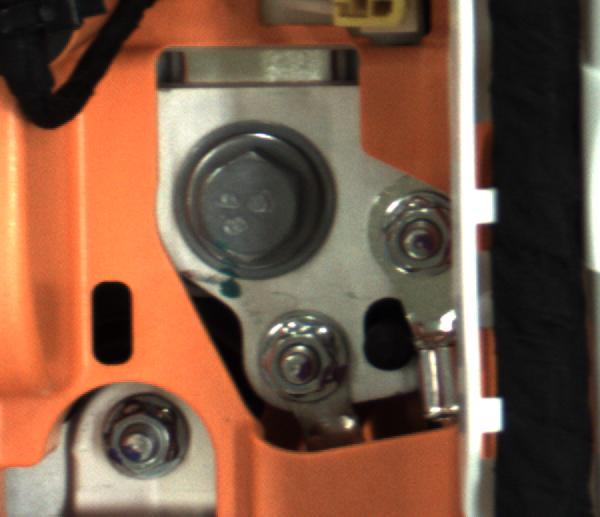nut_b: (150, 123, 338, 271)
screw_s: (375, 189, 452, 288), (102, 406, 196, 482), (257, 318, 340, 401)
